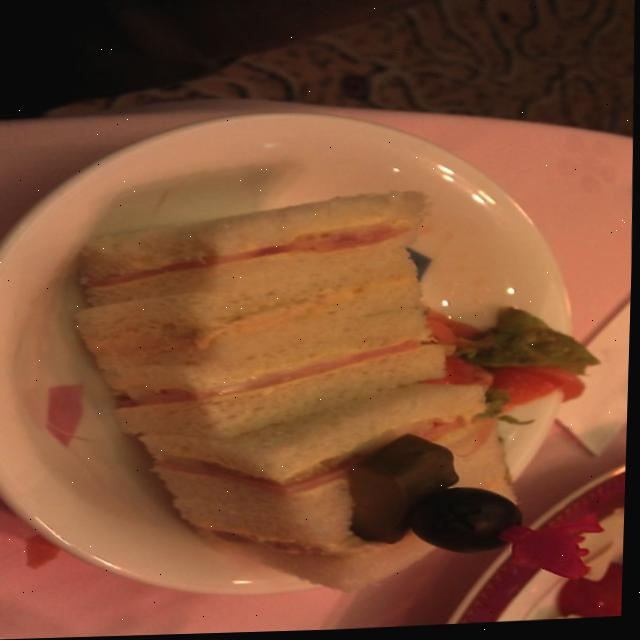三明治: (0, 66, 601, 617)
